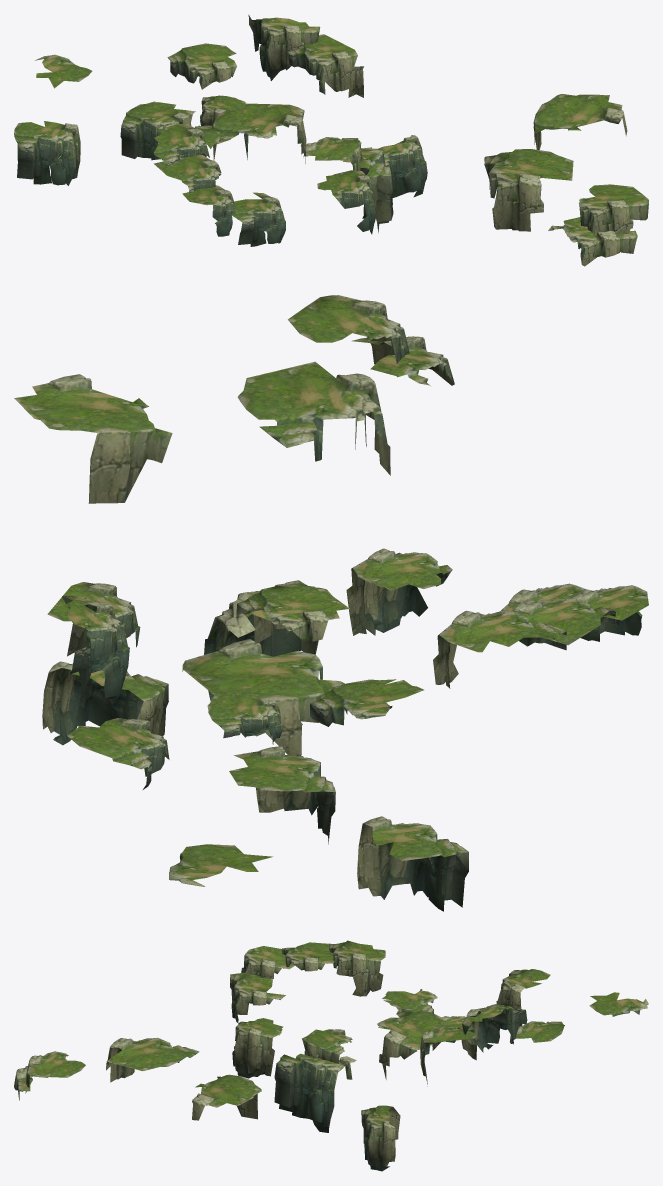
The model's file is S_Rock_Green054_1.FBX.
The picture shows the model from 3 angles, top to bottom: view 1: azimuth 30°, elevation 25°; view 2: azimuth 150°, elevation 25°; view 3: azimuth 270°, elevation 25°; orthographic projection. The views are drawn at different scales.
Parts seen in each view (by area): view 1: S_Rock_Green054_003, S_Rock_Green054_020, S_Rock_Green054_016, S_Rock_Green054_014, S_Rock_Green054_001, S_Rock_Green054_004, S_Rock_Green054_017, S_Rock_Green054_019, S_Rock_Green054_018, S_Rock_Green054_009, S_Rock_Green054_008, S_Rock_Green054_002 (+8 smaller); view 2: S_Rock_Green054_004, S_Rock_Green054_003, S_Rock_Green054_014, S_Rock_Green054_020, S_Rock_Green054_008, S_Rock_Green054_005, S_Rock_Green054_019, S_Rock_Green054_001, S_Rock_Green054_012, S_Rock_Green054_017, S_Rock_Green054_007, S_Rock_Green054_018 (+9 smaller); view 3: S_Rock_Green054_006, S_Rock_Green054_003, S_Rock_Green054_005, S_Rock_Green054_014, S_Rock_Green054_012, S_Rock_Green054_008, S_Rock_Green054_004, S_Rock_Green054_017, S_Rock_Green054_009, S_Rock_Green054_001, S_Rock_Green054_007, S_Rock_Green054_010 (+7 smaller).
Part boxes in pixels (x1=…): S_Rock_Green054_003: x1=484, y1=149, x2=573, y2=231; S_Rock_Green054_020: x1=14, y1=121, x2=80, y2=185; S_Rock_Green054_016: x1=287, y1=34, x2=363, y2=97; S_Rock_Green054_014: x1=212, y1=103, x2=306, y2=163; S_Rock_Green054_001: x1=579, y1=184, x2=648, y2=234; S_Rock_Green054_004: x1=533, y1=94, x2=627, y2=149; S_Rock_Green054_017: x1=248, y1=14, x2=320, y2=80; S_Rock_Green054_019: x1=120, y1=101, x2=195, y2=160; S_Rock_Green054_018: x1=167, y1=43, x2=236, y2=89; S_Rock_Green054_009: x1=232, y1=192, x2=285, y2=246; S_Rock_Green054_008: x1=361, y1=135, x2=427, y2=197; S_Rock_Green054_002: x1=548, y1=217, x2=637, y2=266; S_Rock_Green054_004: x1=14, y1=374, x2=172, y2=503; S_Rock_Green054_003: x1=237, y1=361, x2=390, y2=475; S_Rock_Green054_014: x1=182, y1=639, x2=345, y2=756; S_Rock_Green054_020: x1=357, y1=816, x2=468, y2=911; S_Rock_Green054_008: x1=42, y1=661, x2=168, y2=745; S_Rock_Green054_005: x1=346, y1=548, x2=452, y2=635; S_Rock_Green054_019: x1=229, y1=746, x2=335, y2=844; S_Rock_Green054_001: x1=288, y1=295, x2=409, y2=363; S_Rock_Green054_012: x1=433, y1=610, x2=566, y2=688; S_Rock_Green054_017: x1=62, y1=595, x2=129, y2=703; S_Rock_Green054_007: x1=236, y1=585, x2=349, y2=643; S_Rock_Green054_018: x1=67, y1=718, x2=169, y2=789; S_Rock_Green054_006: x1=274, y1=1053, x2=356, y2=1132; S_Rock_Green054_003: x1=106, y1=1037, x2=199, y2=1082; S_Rock_Green054_005: x1=232, y1=1018, x2=283, y2=1078; S_Rock_Green054_014: x1=377, y1=1010, x2=445, y2=1079; S_Rock_Green054_012: x1=329, y1=940, x2=385, y2=996; S_Rock_Green054_008: x1=361, y1=1105, x2=400, y2=1171; S_Rock_Green054_004: x1=192, y1=1074, x2=261, y2=1120; S_Rock_Green054_017: x1=462, y1=1005, x2=527, y2=1052; S_Rock_Green054_009: x1=230, y1=972, x2=285, y2=1022; S_Rock_Green054_001: x1=25, y1=1051, x2=85, y2=1093; S_Rock_Green054_007: x1=302, y1=1029, x2=352, y2=1063; S_Rock_Green054_010: x1=241, y1=946, x2=294, y2=978.
Size of the model in its own units: 8572 by 12115 by 2706.
